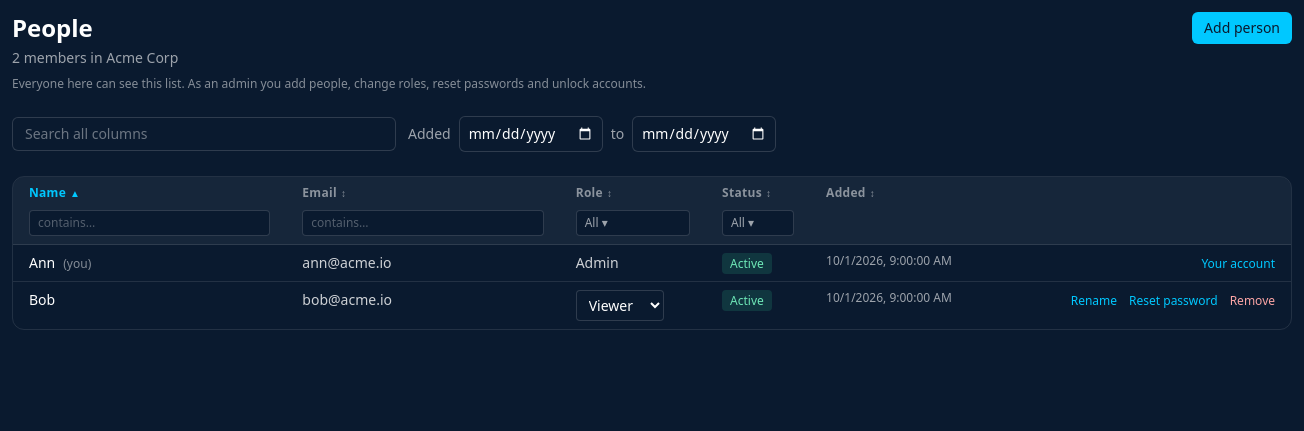
People page › renames someone
Click the button "Rename" at (1094, 301), box [1071, 293, 1117, 309]
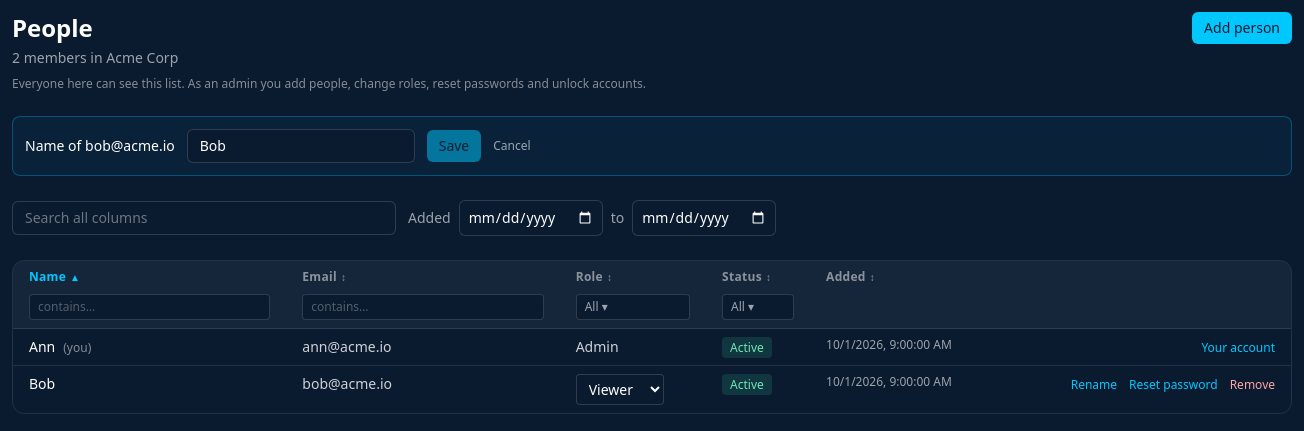
Replace the text in the field with " Robert " at (301, 146), box [187, 129, 415, 163]
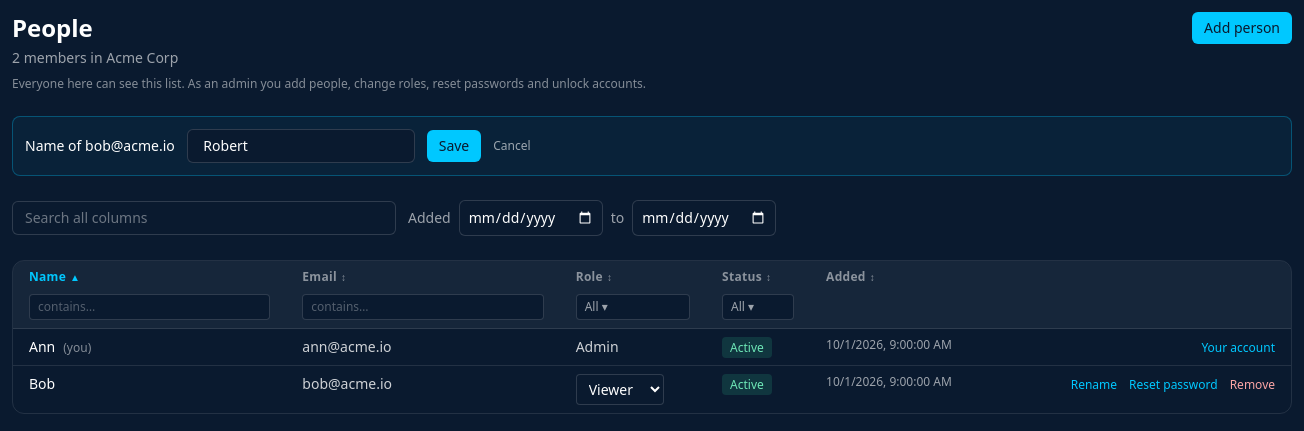
Click the button "Save" at (454, 146), box [427, 130, 481, 162]
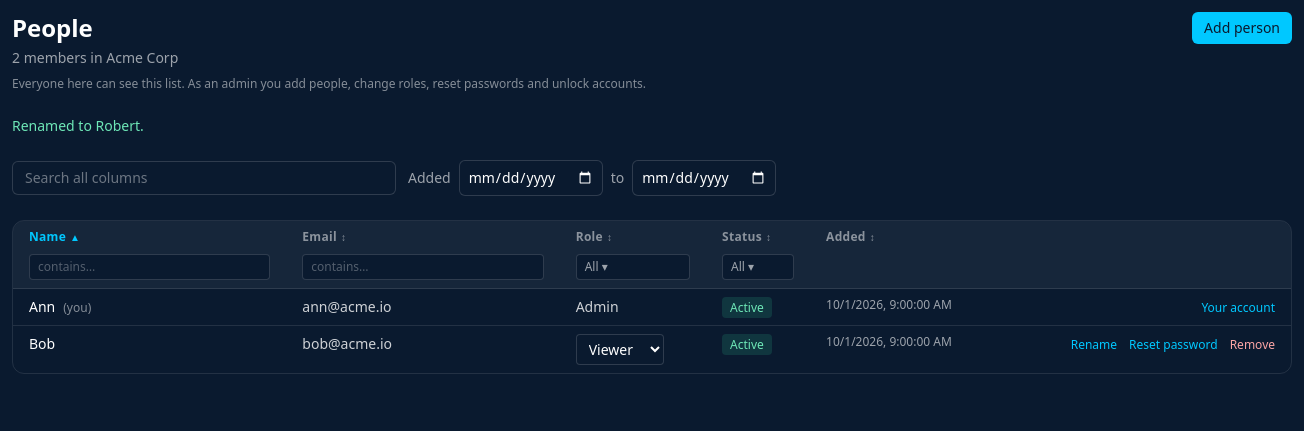
Check: the message reads "Renamed to Robert.", box [12, 116, 144, 135]
